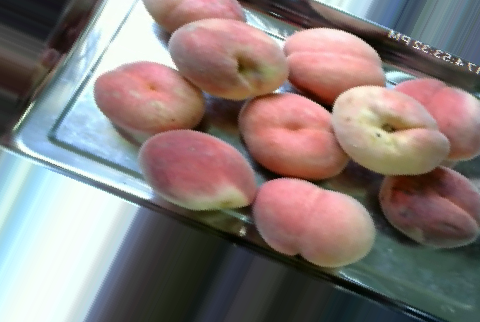Peach: (252, 178, 377, 270), (334, 86, 449, 174), (169, 18, 286, 100), (239, 91, 349, 178), (138, 129, 254, 210), (93, 60, 208, 135), (379, 167, 480, 249), (283, 27, 387, 100)
